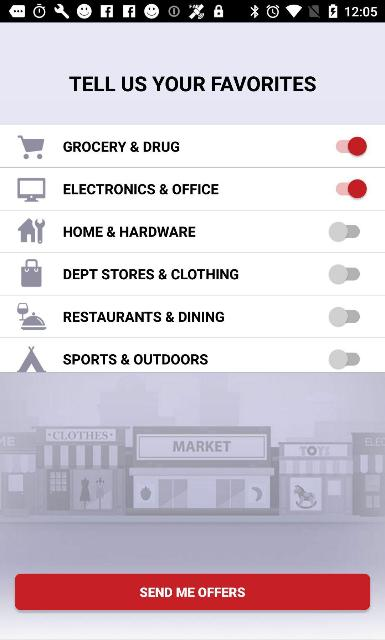Icon: (15, 344, 47, 372), (16, 302, 48, 330), (17, 218, 45, 244), (16, 178, 46, 202), (17, 136, 45, 160), (22, 258, 42, 288)
Image: (1, 373, 385, 529)
List: (0, 125, 385, 372)
Switch: (336, 136, 368, 156), (328, 222, 359, 242), (330, 264, 360, 284), (330, 307, 360, 327), (330, 349, 360, 368), (337, 180, 367, 198)
Text: (68, 75, 316, 92), (64, 268, 239, 280), (64, 310, 224, 322), (64, 183, 218, 194), (63, 226, 195, 238), (62, 354, 208, 364), (62, 142, 180, 152), (140, 587, 245, 597)
TextButton: (14, 574, 370, 610)
UpperTaskBar: (0, 0, 384, 22)
